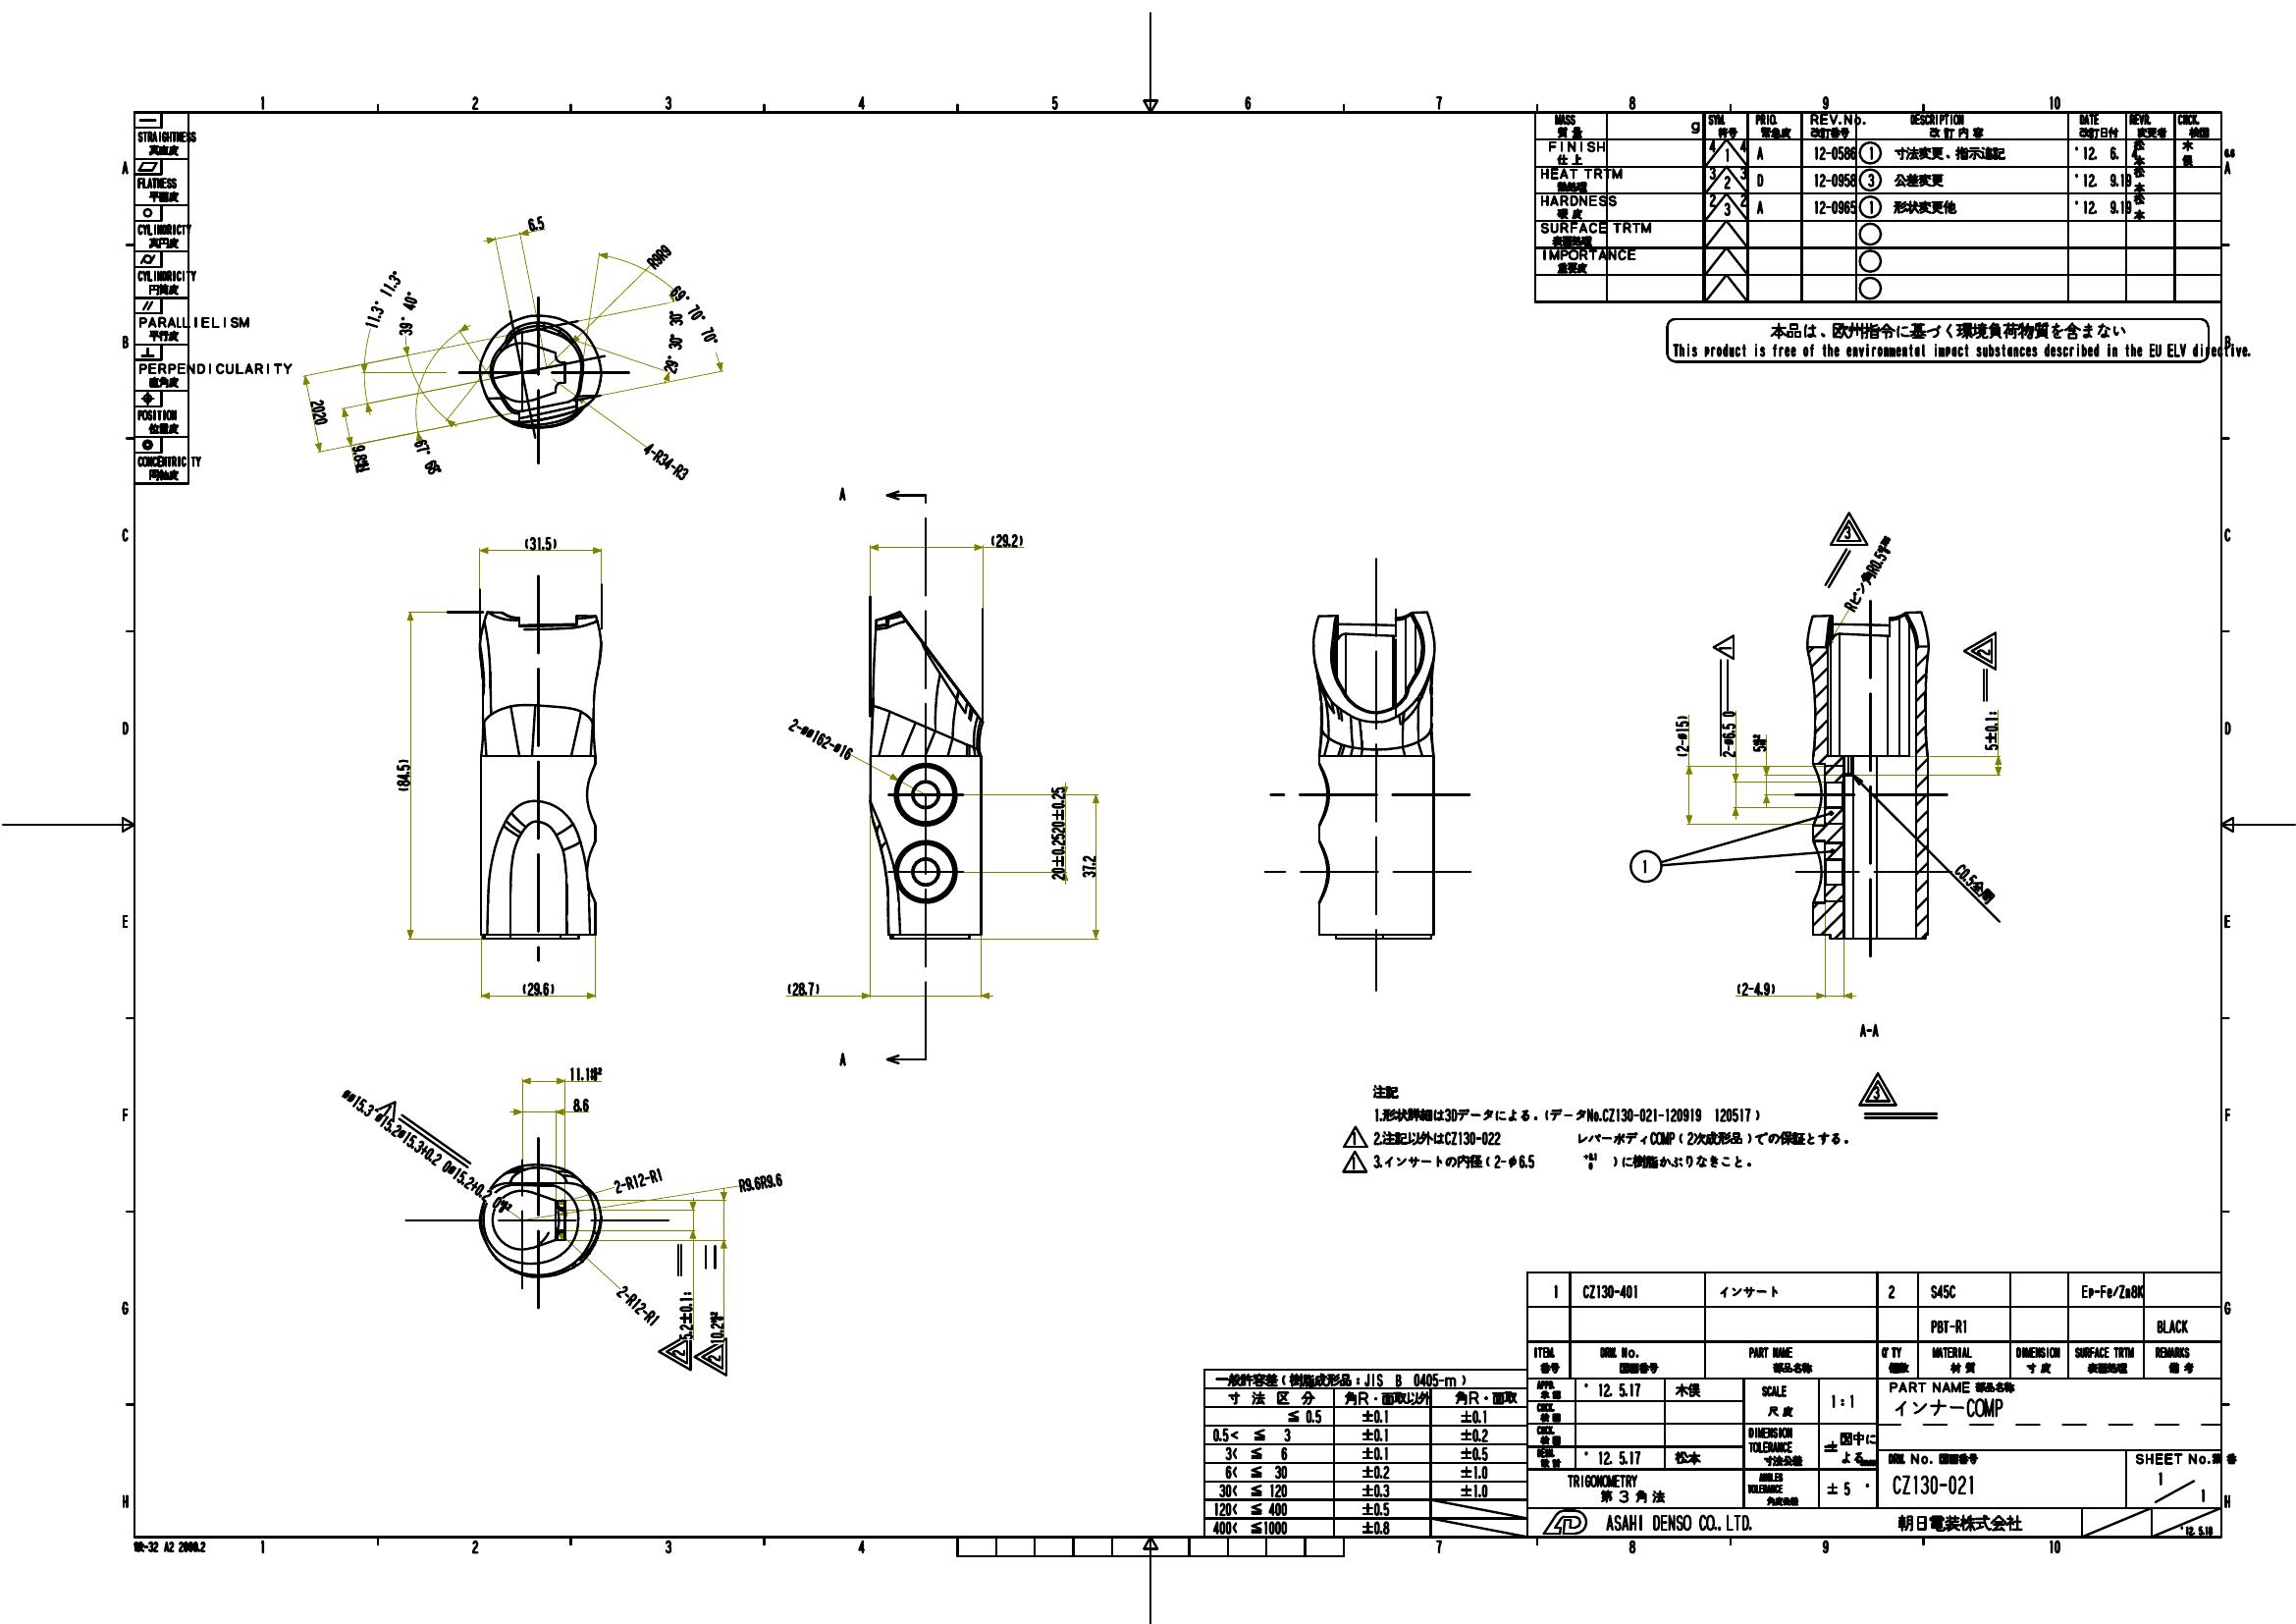anntotation_text: (1368, 1083, 1852, 1169), (1664, 316, 2250, 364), (1959, 629, 1999, 671), (1827, 510, 1871, 547), (655, 1332, 694, 1373), (692, 1336, 729, 1378), (1855, 1072, 1897, 1107), (1625, 849, 1662, 882), (132, 1541, 206, 1552), (1340, 1125, 1368, 1149), (1339, 1149, 1367, 1174), (1709, 634, 1736, 659), (378, 1097, 399, 1120), (1855, 1023, 1883, 1037), (836, 485, 847, 501), (838, 1049, 847, 1067)
dimension_text: (320, 1142, 532, 1162), (1047, 784, 1068, 881), (657, 304, 733, 325), (1825, 564, 1913, 582), (782, 729, 859, 747), (636, 332, 708, 350), (608, 1297, 669, 1316), (350, 290, 416, 308), (675, 1288, 696, 1341), (1946, 874, 2003, 893), (399, 446, 453, 466), (379, 302, 436, 320), (1718, 708, 1736, 761), (638, 453, 696, 469), (1734, 979, 1780, 998), (611, 1172, 666, 1188), (516, 977, 557, 998), (564, 1062, 604, 1083), (1672, 712, 1690, 759), (783, 977, 824, 997), (706, 1308, 726, 1346), (1982, 708, 1999, 750), (518, 533, 560, 550), (300, 402, 337, 422), (393, 756, 413, 793), (736, 1176, 785, 1190), (987, 529, 1024, 547), (1075, 852, 1098, 879), (641, 246, 675, 264), (346, 452, 378, 466), (571, 1095, 590, 1116), (1750, 731, 1767, 752), (523, 216, 546, 230)
object: (1310, 610, 1437, 940), (1804, 610, 1931, 940), (474, 610, 599, 940), (866, 610, 984, 942), (476, 313, 603, 431), (476, 1162, 604, 1278)
title_block: (1525, 1269, 2222, 1540), (1532, 109, 2224, 304), (1200, 1366, 1530, 1540), (132, 111, 190, 487)
